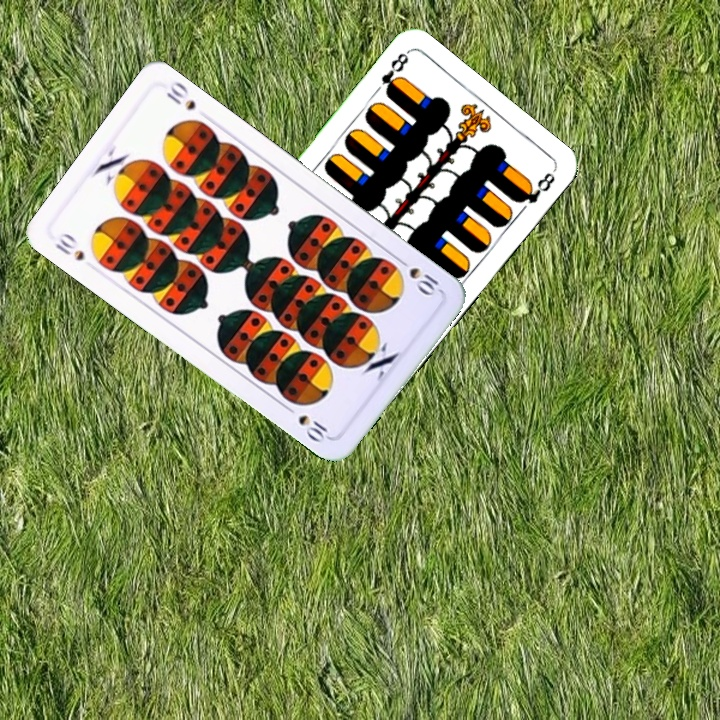E8: (376, 48, 412, 99)
S10: (389, 253, 442, 299), (51, 228, 87, 264)
